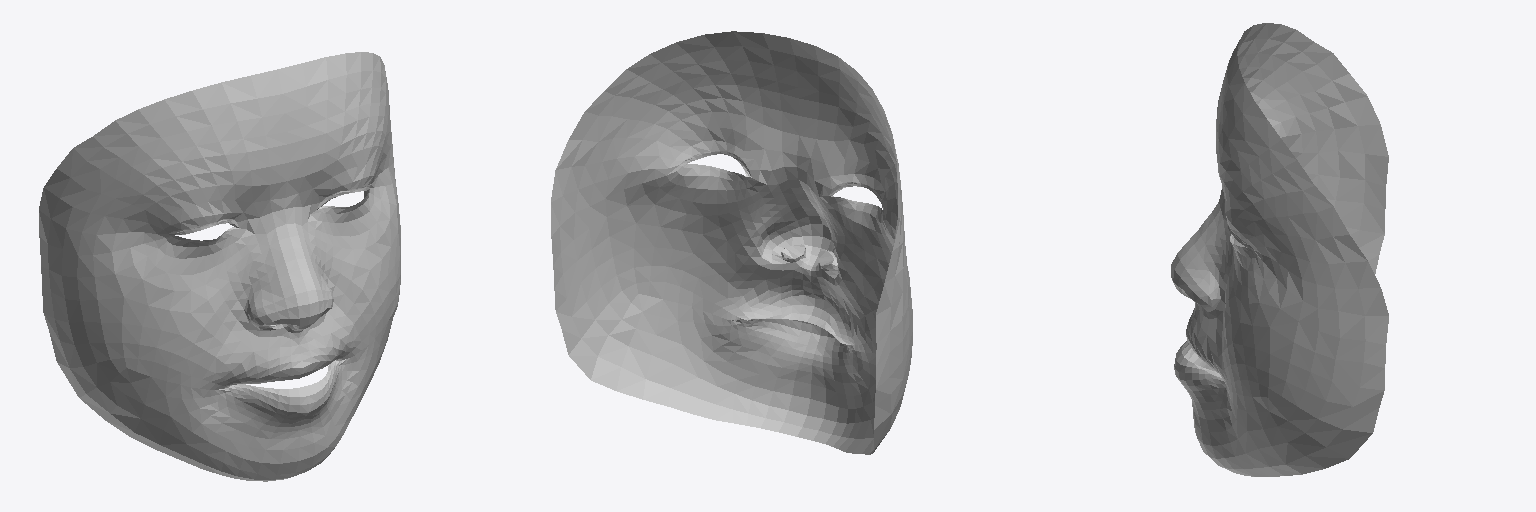
File: jawForward.obj
3 renders of one model, left to right at view 1: azimuth 30°, elevation 25°; view 2: azimuth 150°, elevation 25°; view 3: azimuth 270°, elevation 25°, orthographic.
Parts seen in each view (by area): view 1: default; view 2: default; view 3: default.
Boxes of the visible parts, box(x1,y1,x2,y2) form: default: box(39, 52, 400, 481); default: box(551, 31, 912, 454); default: box(1171, 23, 1388, 476).
Bounding box in the file's own units: 0.1624 × 0.1864 × 0.0913.